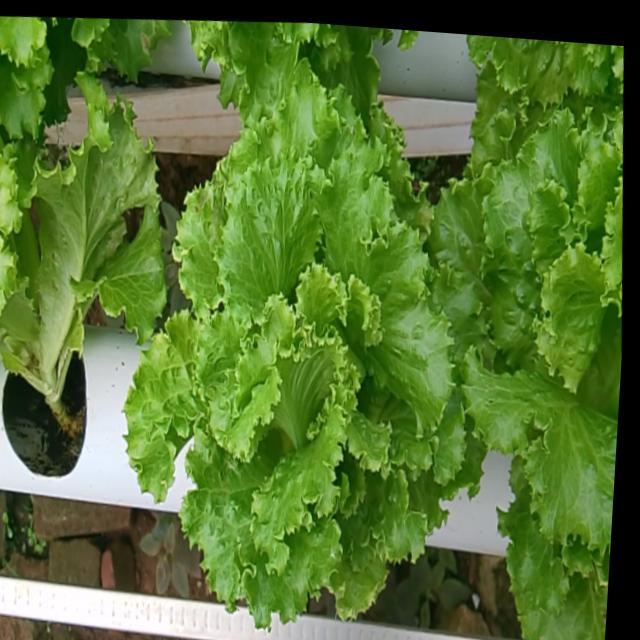Mature: (116, 96, 457, 640), (424, 122, 623, 574)
